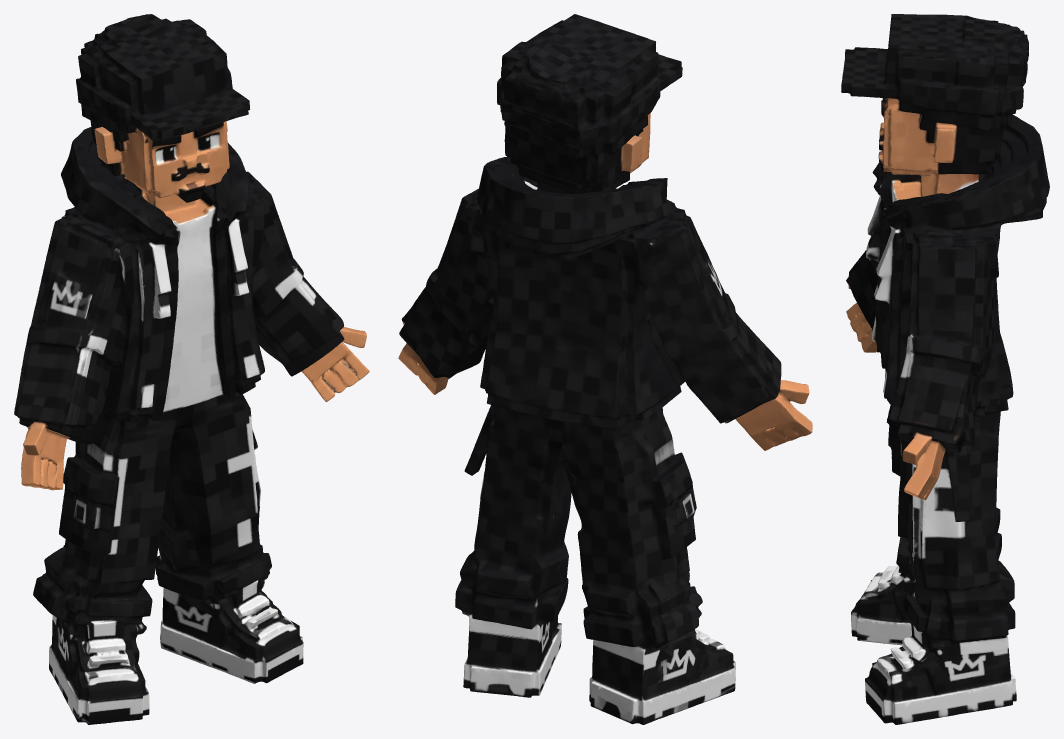
Rendered from Meshy_AI_Block_Street_King_1026124354_texture.glb.
3 renders of one model, left to right at view 1: azimuth 30°, elevation 25°; view 2: azimuth 150°, elevation 25°; view 3: azimuth 270°, elevation 25°, orthographic. The views are drawn at different scales.
Size of the model in its own units: 1.17 by 1.89 by 0.5572.
Materials: 1 (1 with a texture image).
